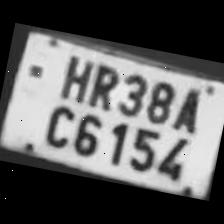1: (98, 114, 132, 166)
3: (111, 66, 150, 116)
4: (151, 126, 195, 183)
5: (122, 119, 162, 174)
6: (66, 106, 106, 159)
8: (139, 73, 178, 126)
A: (168, 82, 208, 137)
C: (38, 96, 78, 150)
H: (52, 49, 96, 105)
R: (84, 59, 122, 111)
